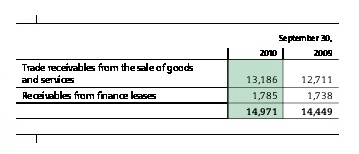table: (0, 0, 359, 154)
